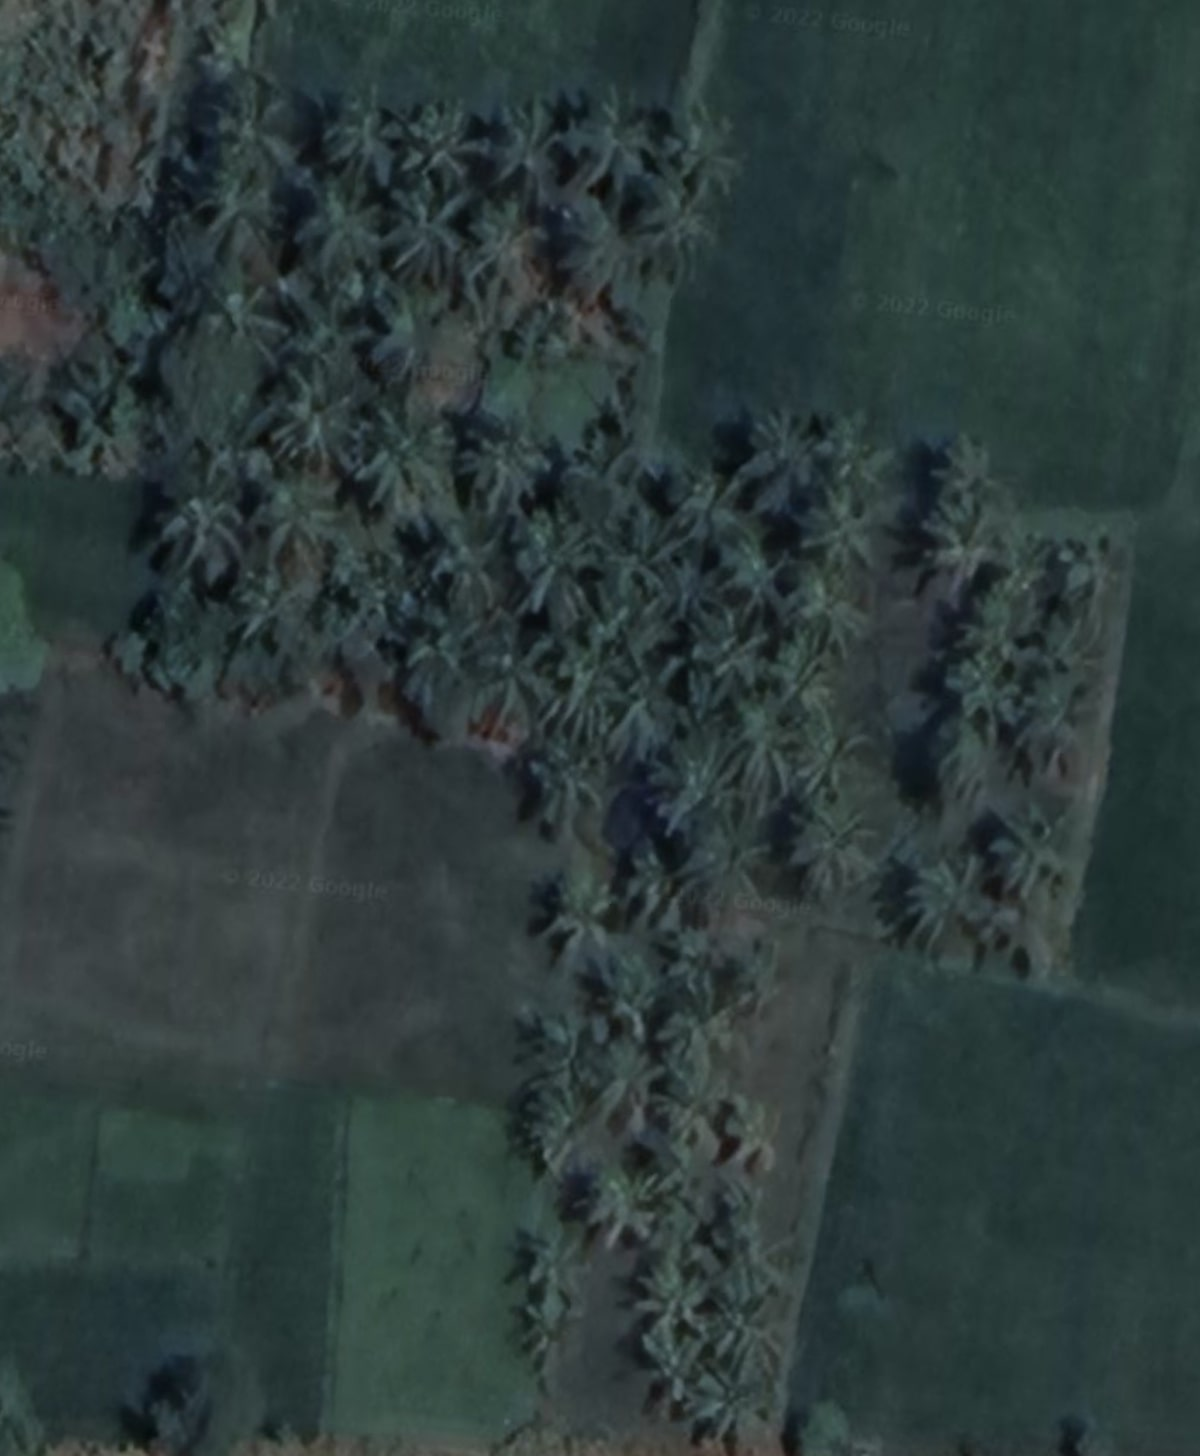coconut: (622, 178, 729, 297), (637, 83, 757, 187), (640, 732, 752, 842), (669, 608, 778, 722), (187, 67, 295, 180), (527, 193, 637, 301), (249, 354, 350, 470), (884, 843, 983, 957), (340, 399, 458, 492), (473, 612, 559, 739), (980, 805, 1081, 911), (552, 80, 650, 187), (781, 804, 887, 902), (142, 492, 252, 584), (380, 184, 480, 284), (185, 171, 290, 262), (773, 577, 875, 671), (504, 744, 607, 837), (298, 187, 394, 285), (500, 508, 595, 606), (780, 492, 881, 584), (728, 414, 823, 509), (783, 720, 879, 811), (598, 518, 692, 608), (416, 526, 502, 620), (474, 106, 559, 202), (383, 622, 471, 713), (457, 423, 554, 505), (529, 871, 619, 958), (692, 1298, 784, 1379), (542, 653, 622, 746), (908, 512, 1005, 587), (400, 97, 477, 191), (578, 957, 660, 1042), (315, 85, 387, 181), (919, 432, 1006, 512), (670, 1363, 754, 1444), (573, 1172, 657, 1253), (944, 654, 1021, 736), (711, 1223, 794, 1299), (715, 1102, 785, 1181), (629, 1250, 702, 1323)
